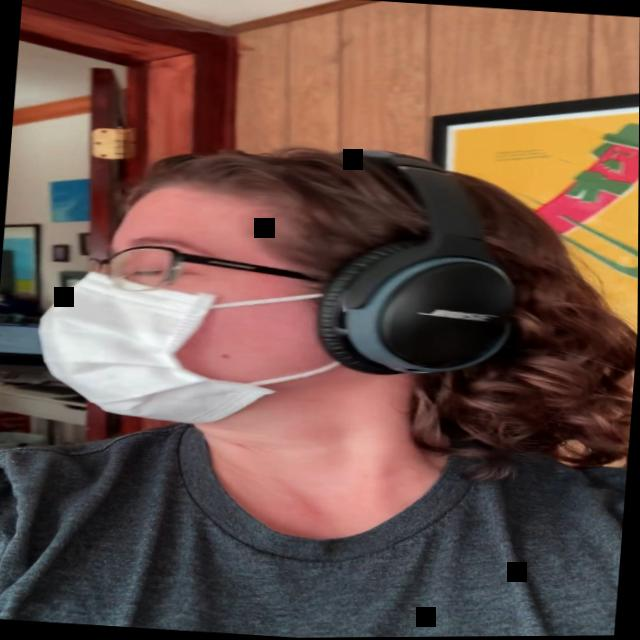Mask: (31, 178, 326, 432)
